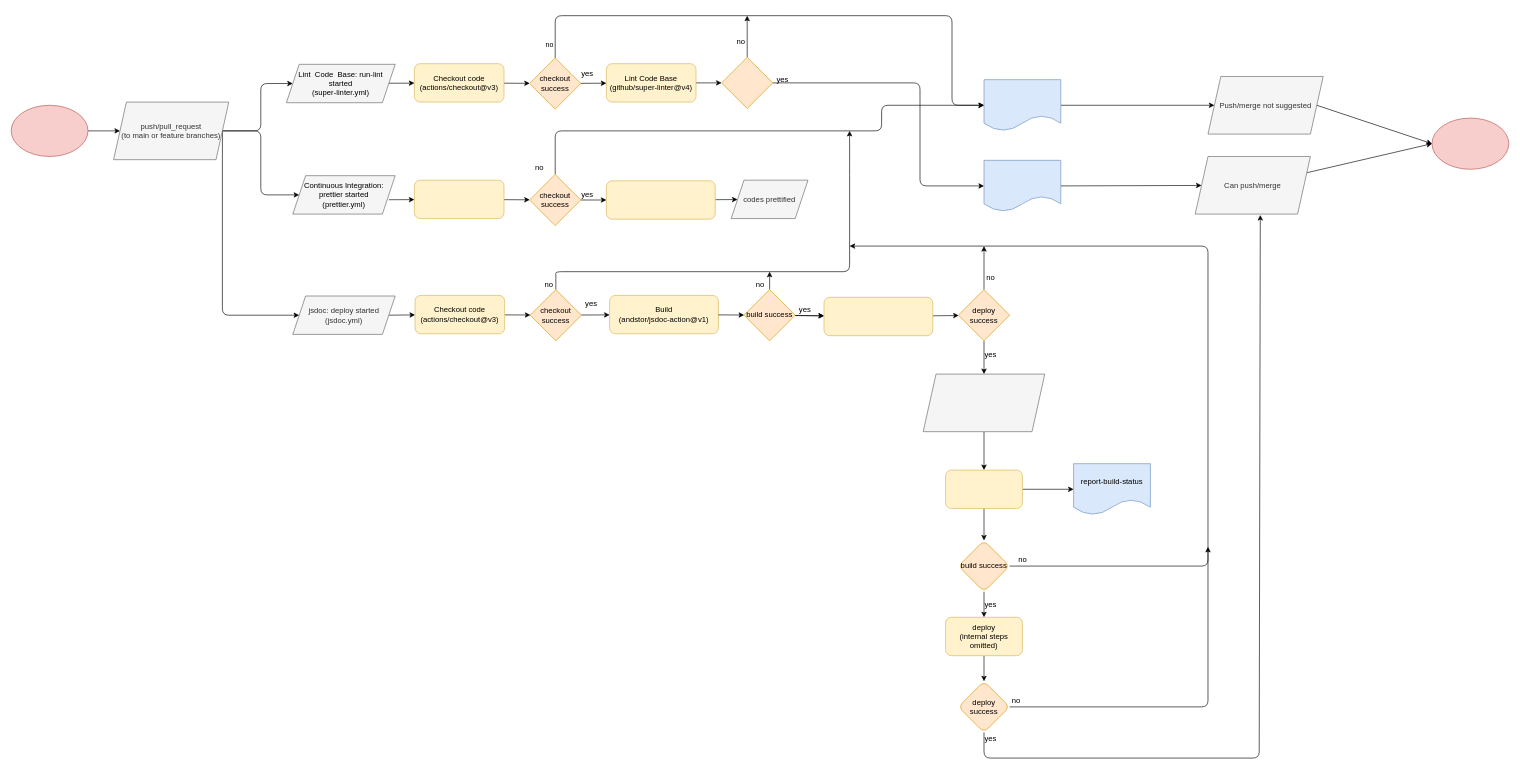
Image size: 1520x774. Some labels were removed from this diagram. The centre of each missing label's shape, as x and y in pixels:
"All checks have passed" belongs at (x=1022, y=186).
"build (internal steps omitted)" belongs at (x=983, y=488).
"Checkout (actions/checkout@v2)" belongs at (x=459, y=199).
"Deploy (peaceiris/actions-gh-pages@v3)" belongs at (x=878, y=316).
"End" belongs at (x=1470, y=143).
"no error found" belongs at (x=747, y=82).
"pages build and deployment started" belongs at (x=984, y=402).
"Prettify code (creyD/prettier_action@v4.2)" belongs at (x=660, y=199).
"Some checks were not successful" belongs at (x=1022, y=105).
"Start" belongs at (x=49, y=130).
